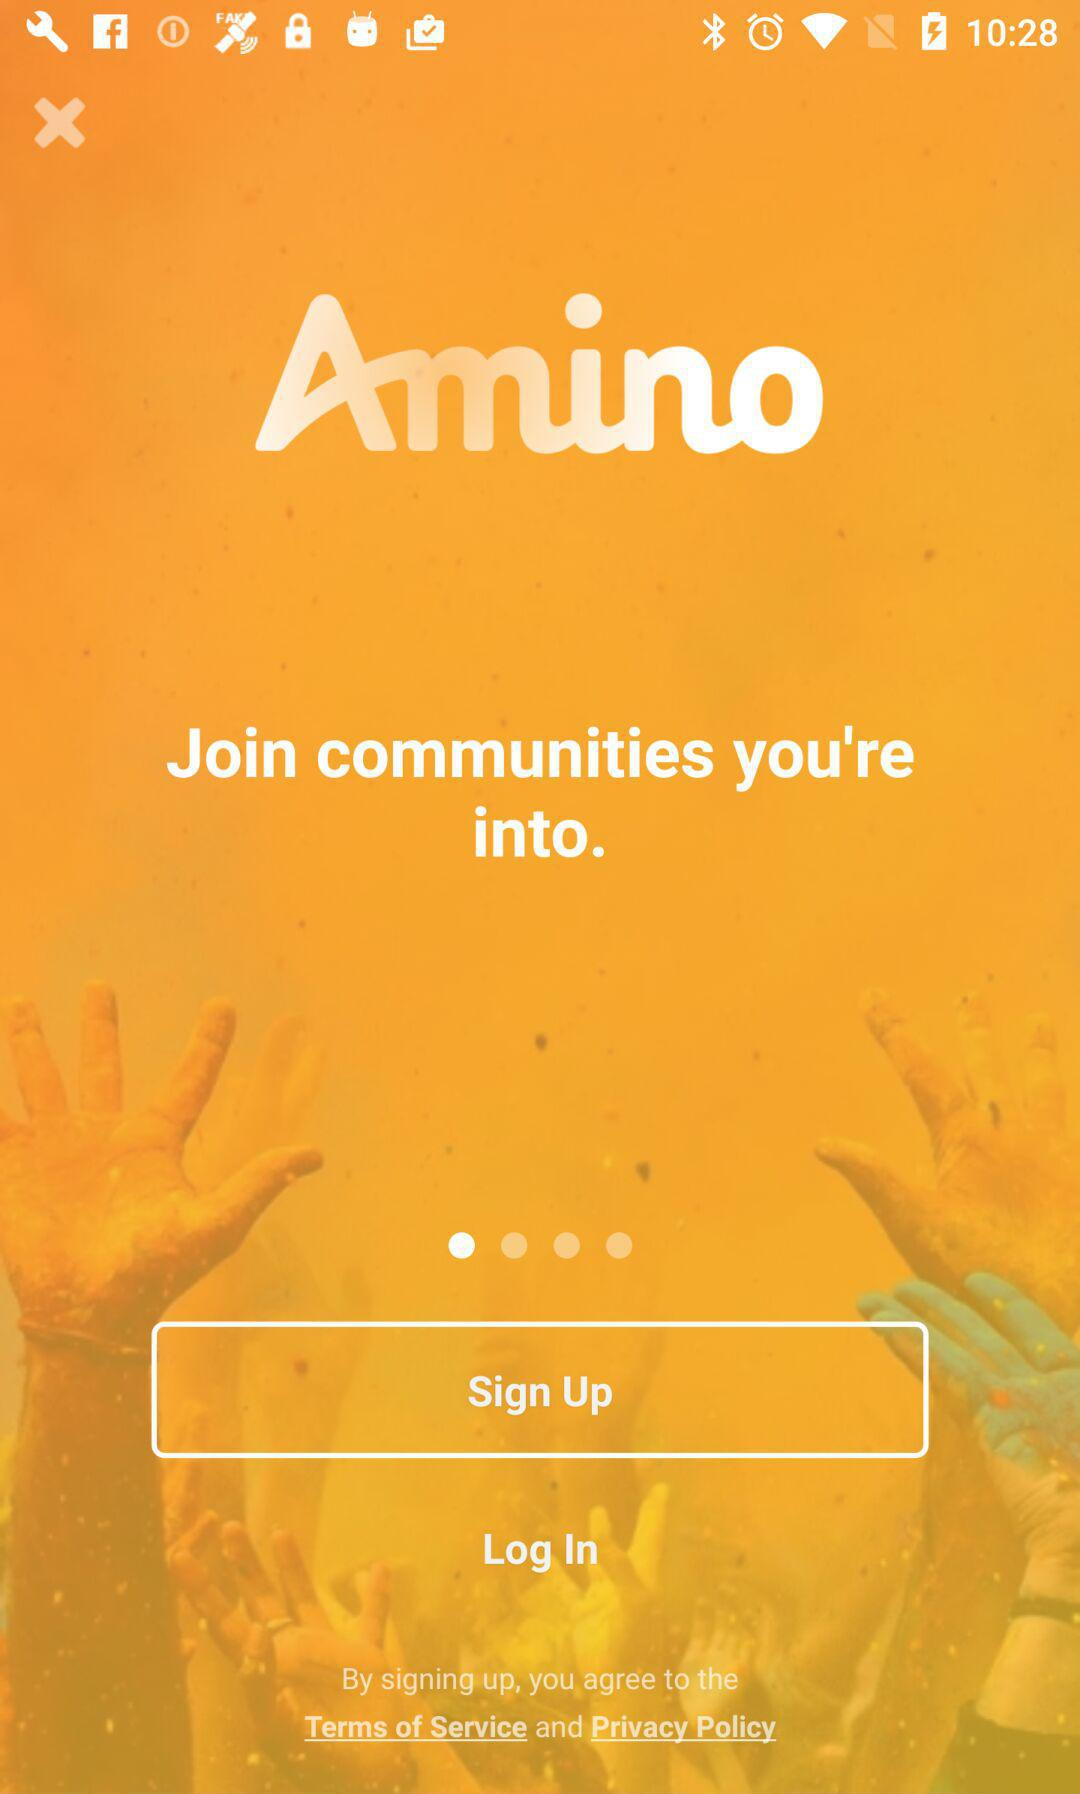BackgroundImage: (1, 58, 1080, 1794)
Icon: (33, 96, 88, 151)
Image: (255, 293, 825, 457)
PageIndicator: (446, 1230, 635, 1262)
Text: (167, 724, 915, 859), (304, 1666, 778, 1744), (483, 1533, 600, 1575)
TextButton: (151, 1321, 930, 1460)
UpperTaskBar: (1, 1, 1080, 58)
